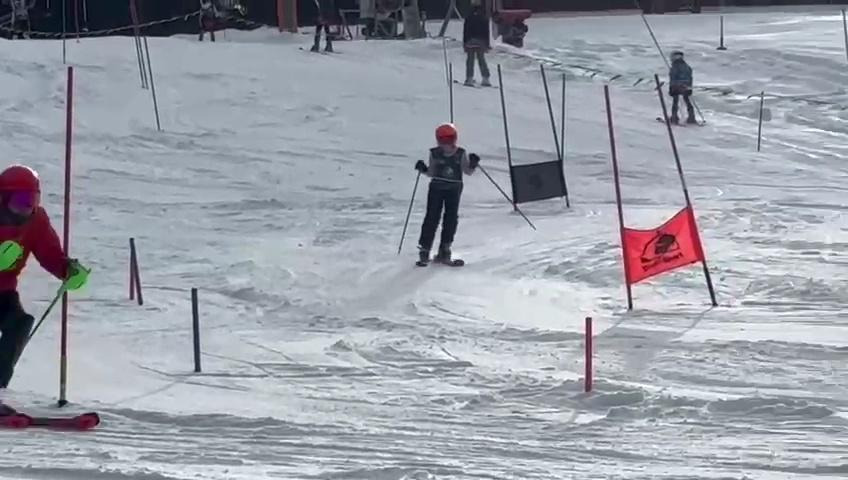gate: (576, 60, 734, 396), (42, 28, 97, 406), (480, 28, 579, 214), (595, 81, 643, 315), (115, 27, 168, 136), (182, 280, 210, 377), (119, 231, 148, 306), (578, 312, 600, 392), (210, 283, 222, 379), (173, 283, 184, 379), (0, 243, 24, 272)
